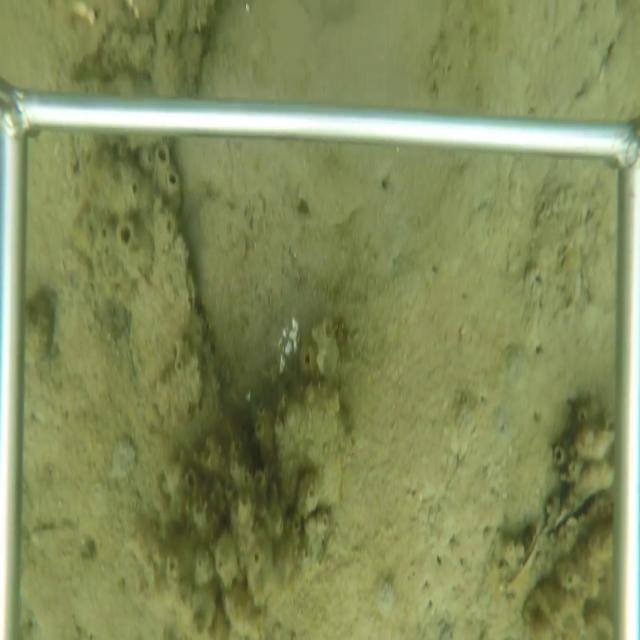Oyster-Closed: (70, 160, 223, 426)
Oyster-Open: (536, 471, 613, 567)
